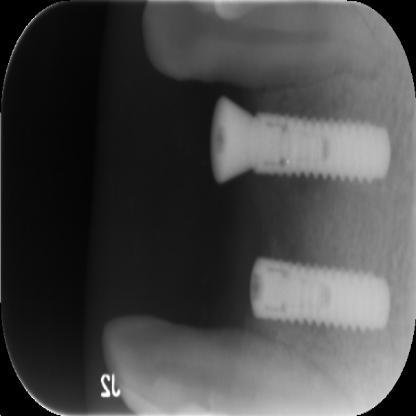ITI: (248, 255, 395, 335), (252, 109, 395, 189)
